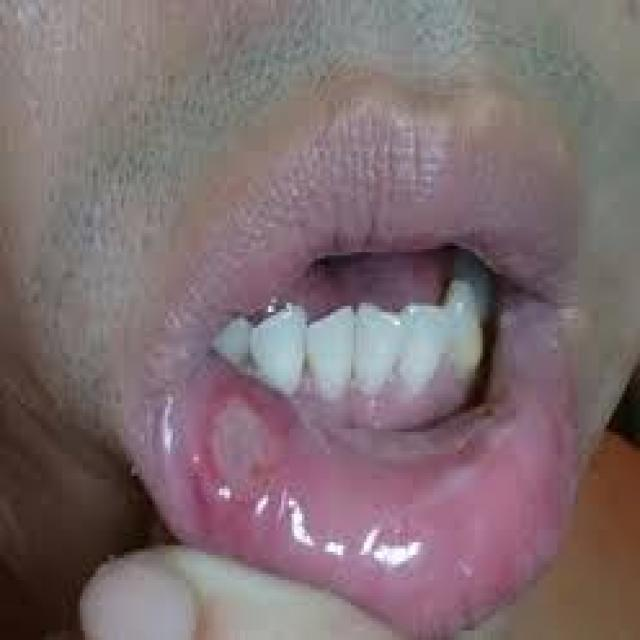processing_area: (150, 294, 571, 635)
ulcer-detection: (197, 373, 297, 523)
